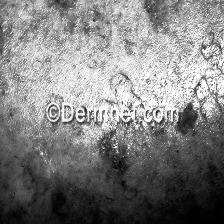Benign Marking or Mole: (98, 127, 147, 185), (76, 14, 122, 62), (0, 154, 7, 203)
